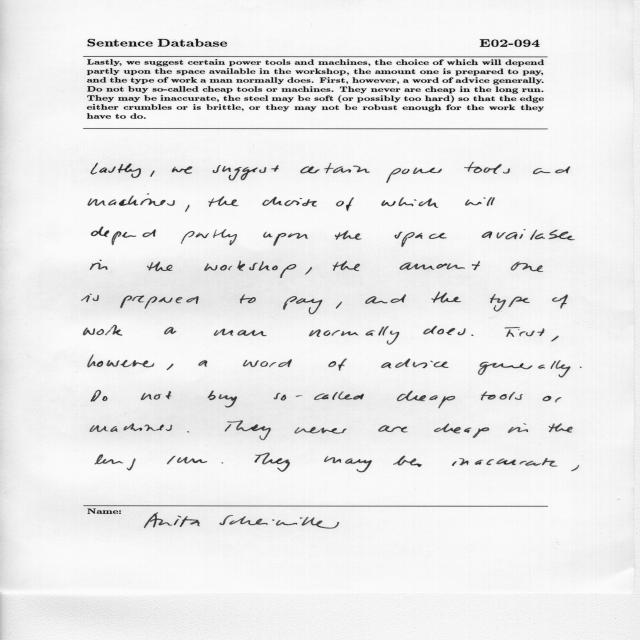word: (309, 326, 399, 345), (205, 260, 297, 278), (478, 360, 570, 378), (91, 227, 156, 245), (397, 391, 455, 409), (120, 296, 199, 309), (482, 229, 575, 240), (213, 165, 279, 180), (88, 195, 175, 206), (452, 458, 558, 467), (181, 229, 237, 245), (225, 421, 271, 440), (386, 168, 442, 183), (434, 423, 489, 438), (274, 392, 364, 401), (88, 355, 155, 367), (395, 232, 447, 247), (324, 456, 372, 472), (91, 163, 141, 178), (90, 423, 172, 432), (399, 261, 480, 270), (283, 296, 322, 314), (300, 163, 370, 173), (254, 453, 290, 472), (490, 294, 530, 311), (381, 359, 449, 369), (95, 455, 136, 471), (263, 232, 308, 246), (382, 197, 439, 208), (464, 162, 510, 174), (262, 197, 317, 207), (208, 391, 237, 408), (423, 326, 466, 336), (84, 325, 123, 336), (214, 329, 267, 337), (365, 294, 406, 304), (505, 327, 545, 337), (243, 359, 292, 367), (481, 392, 523, 401), (295, 427, 347, 434), (511, 261, 543, 272), (209, 196, 239, 207), (431, 292, 461, 303), (167, 456, 207, 464), (393, 456, 422, 467), (533, 166, 570, 174), (465, 197, 495, 206), (333, 261, 360, 271), (141, 391, 171, 400), (335, 230, 361, 240), (147, 262, 173, 272), (336, 197, 354, 211), (328, 358, 347, 371), (378, 425, 408, 433), (549, 423, 573, 433), (552, 295, 568, 309), (508, 423, 528, 433), (91, 390, 107, 402), (90, 260, 107, 270), (172, 166, 192, 174), (81, 294, 99, 302), (240, 295, 256, 304), (543, 396, 562, 402), (165, 327, 177, 334), (199, 360, 208, 367), (305, 267, 312, 275), (336, 301, 342, 309), (551, 336, 559, 342), (571, 465, 579, 471), (167, 364, 174, 370), (185, 205, 190, 212), (150, 171, 155, 177), (471, 334, 474, 336), (187, 431, 189, 433), (580, 367, 582, 368), (222, 463, 224, 464)
